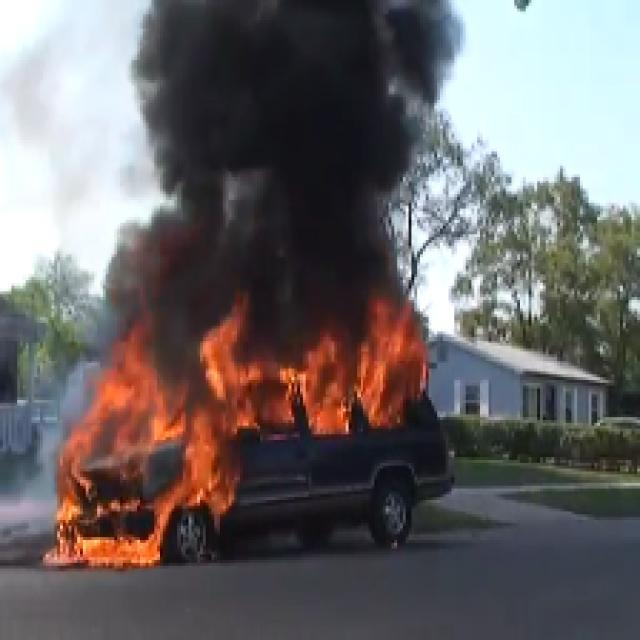Fire: (74, 374, 412, 432), (68, 438, 228, 559)
Smoke: (170, 9, 416, 306)
